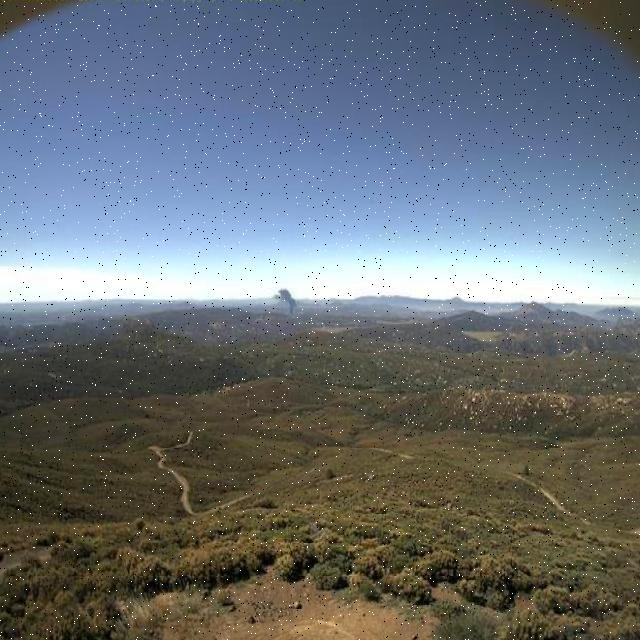smoke: (272, 282, 302, 318)
